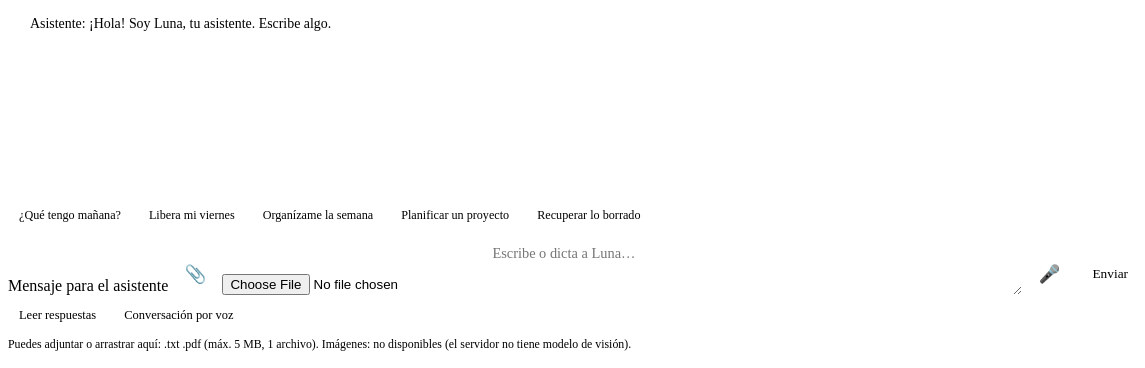
Test: ChatIA › se presenta con el nombre del asistente y envía el mensaje con fecha y hora locales
Check: the text "¡Hola! Soy Luna, tu asistente. Escribe algo." is shown, box [89,16,331,31]
Type "¿Qué tengo mañana?" into the text box labelled "Mensaje para el asistente".
click(752, 265); type("¿Qué tengo mañana?")  # box [481,235,1022,295]
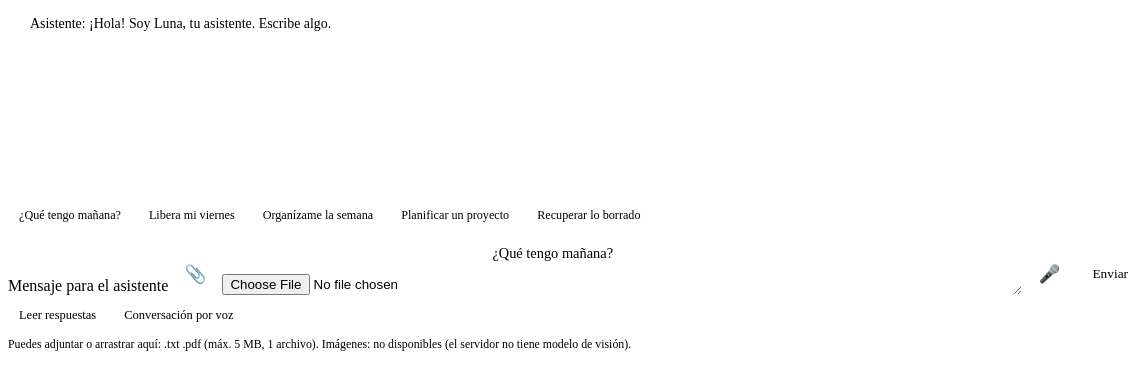
Press Enter in the text box labelled "Mensaje para el asistente", box [481,235,1022,295]
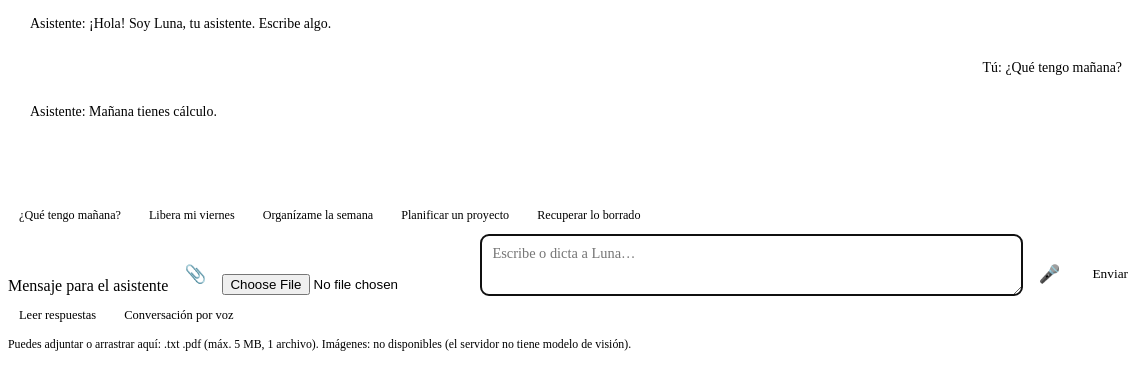
Check: the text "Mañana tienes cálculo." is shown, box [89,104,217,119]
Check: the text "¿Qué tengo mañana?" is shown, box [1005,60,1122,75]
